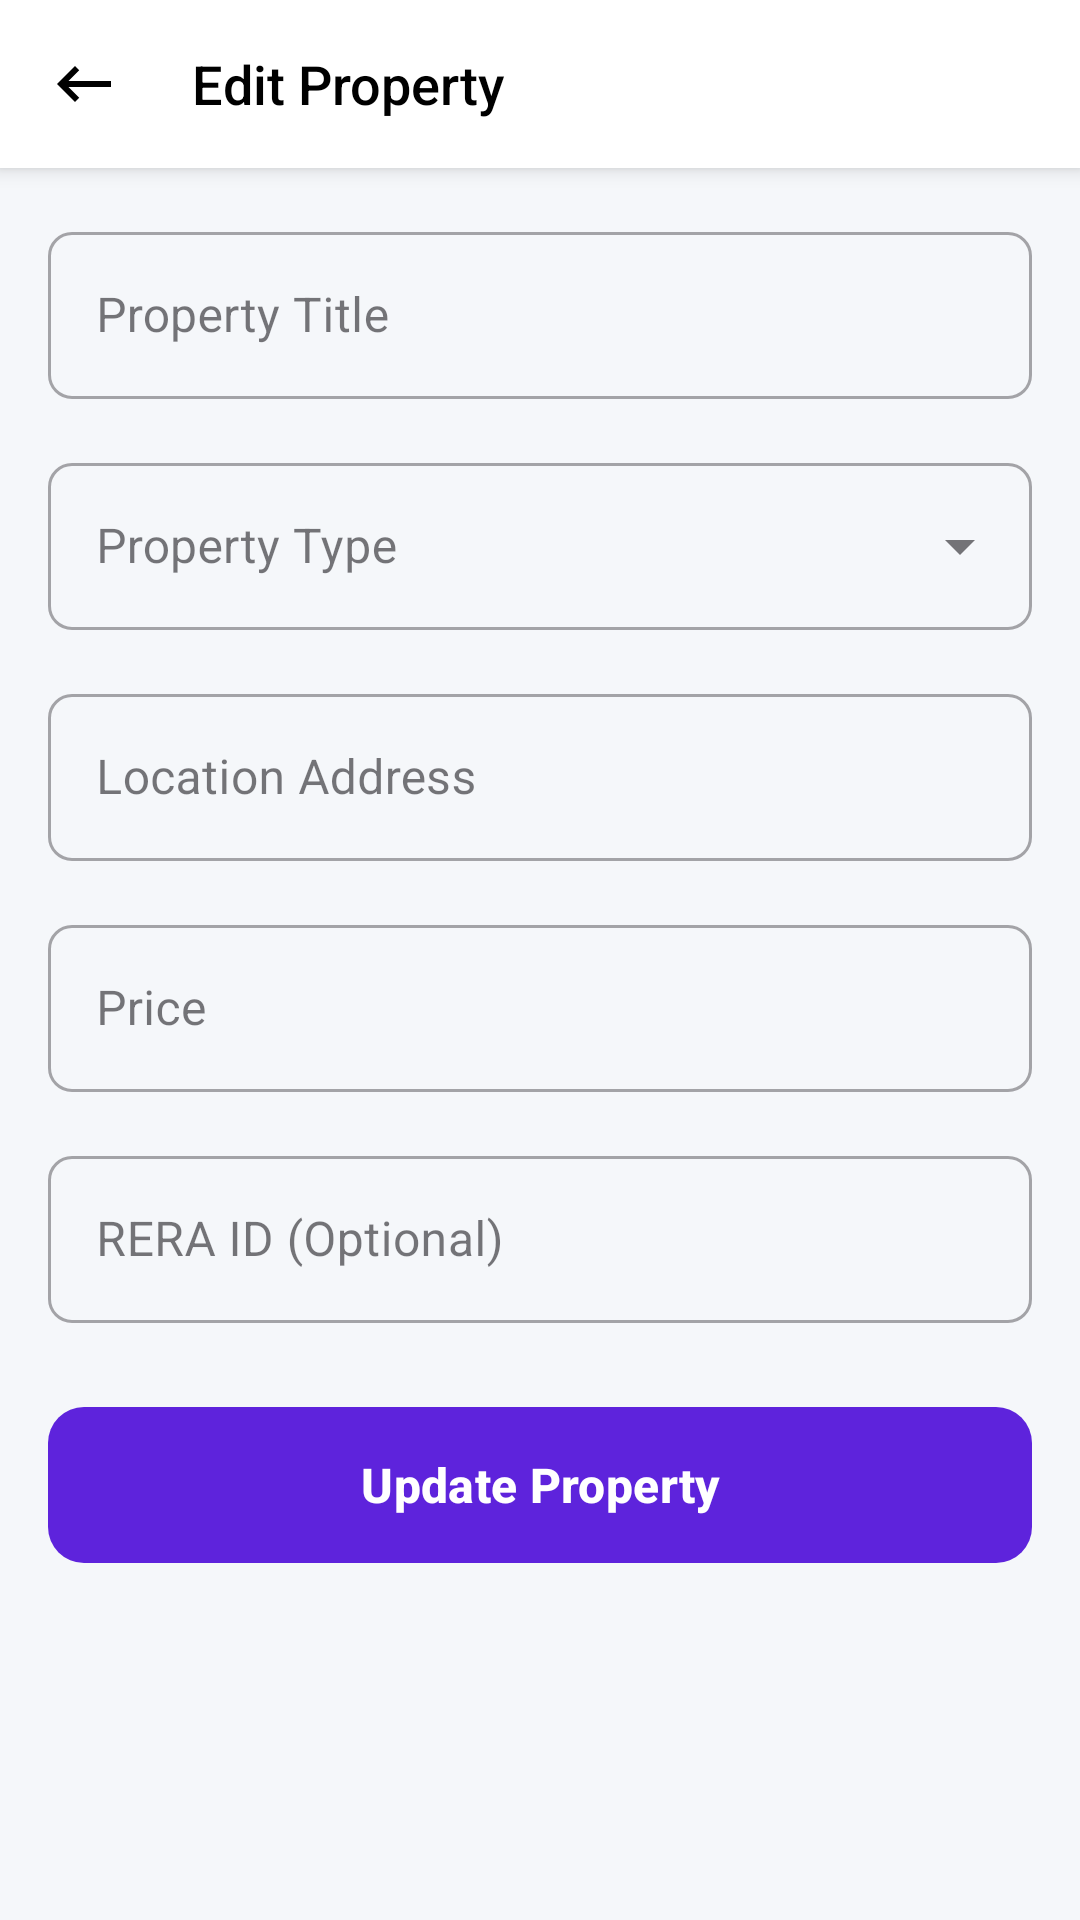

Where icons sit on this 1080px×1920px app screen, as (x1, y1, x2, y2):
back: (57, 66, 111, 102)
